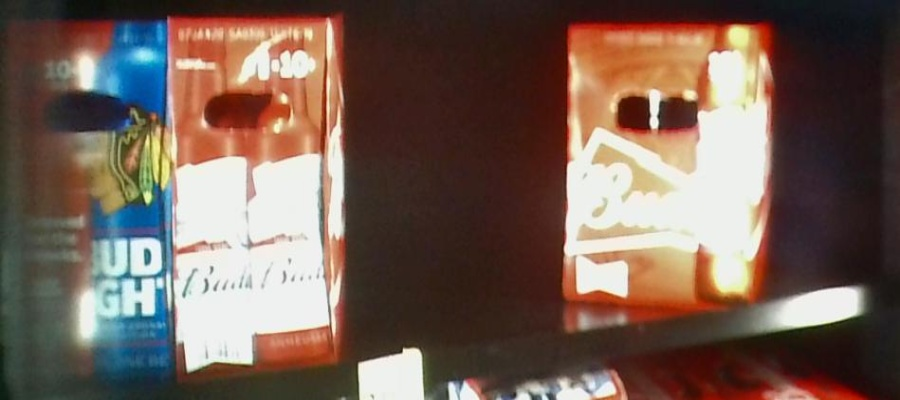bottle: (1, 22, 175, 384), (170, 12, 345, 364), (568, 19, 772, 295)
